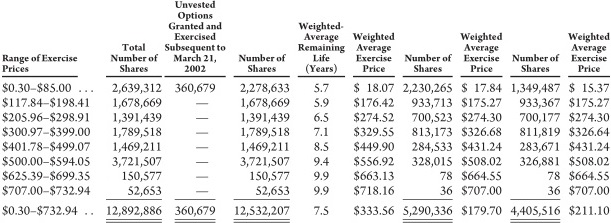column: (1, 1, 95, 223), (164, 1, 227, 223), (233, 1, 290, 223), (107, 1, 162, 223), (401, 1, 453, 223), (510, 1, 561, 223), (297, 1, 345, 223), (351, 1, 396, 223), (459, 1, 503, 223), (567, 1, 611, 220)
row: (1, 82, 611, 94), (1, 97, 611, 109), (1, 126, 611, 138), (1, 141, 611, 153), (1, 155, 611, 167), (1, 184, 611, 196), (1, 204, 611, 216), (1, 21, 611, 32), (1, 112, 611, 123), (1, 170, 611, 181), (1, 11, 611, 21), (1, 32, 611, 42), (1, 43, 611, 53), (1, 54, 611, 63), (1, 64, 611, 73), (1, 1, 611, 9)
